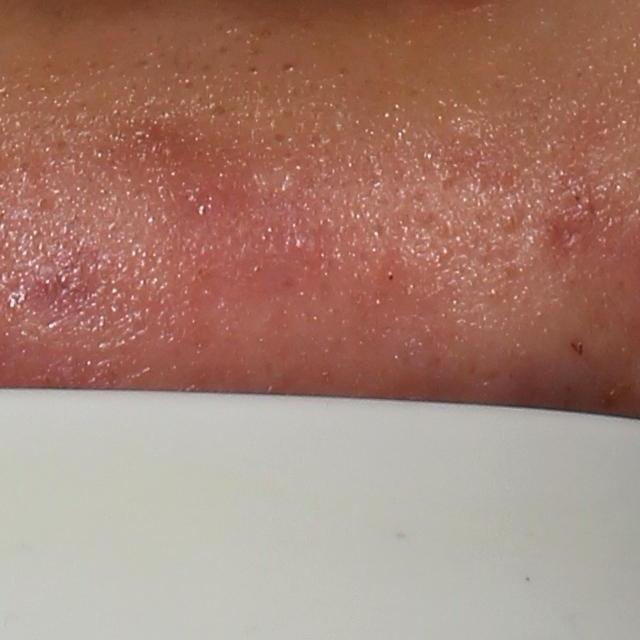comedo: (207, 101, 226, 122), (268, 129, 288, 147)
